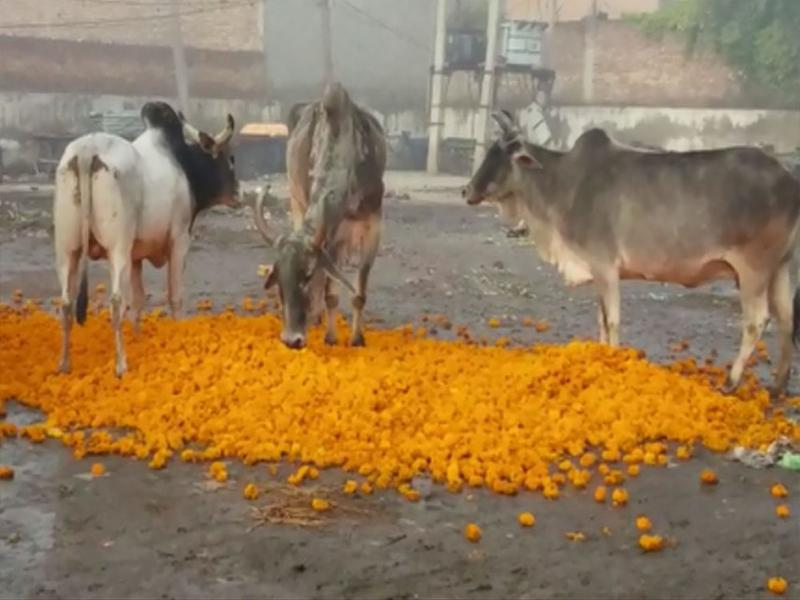flowers: (2, 300, 800, 511)
